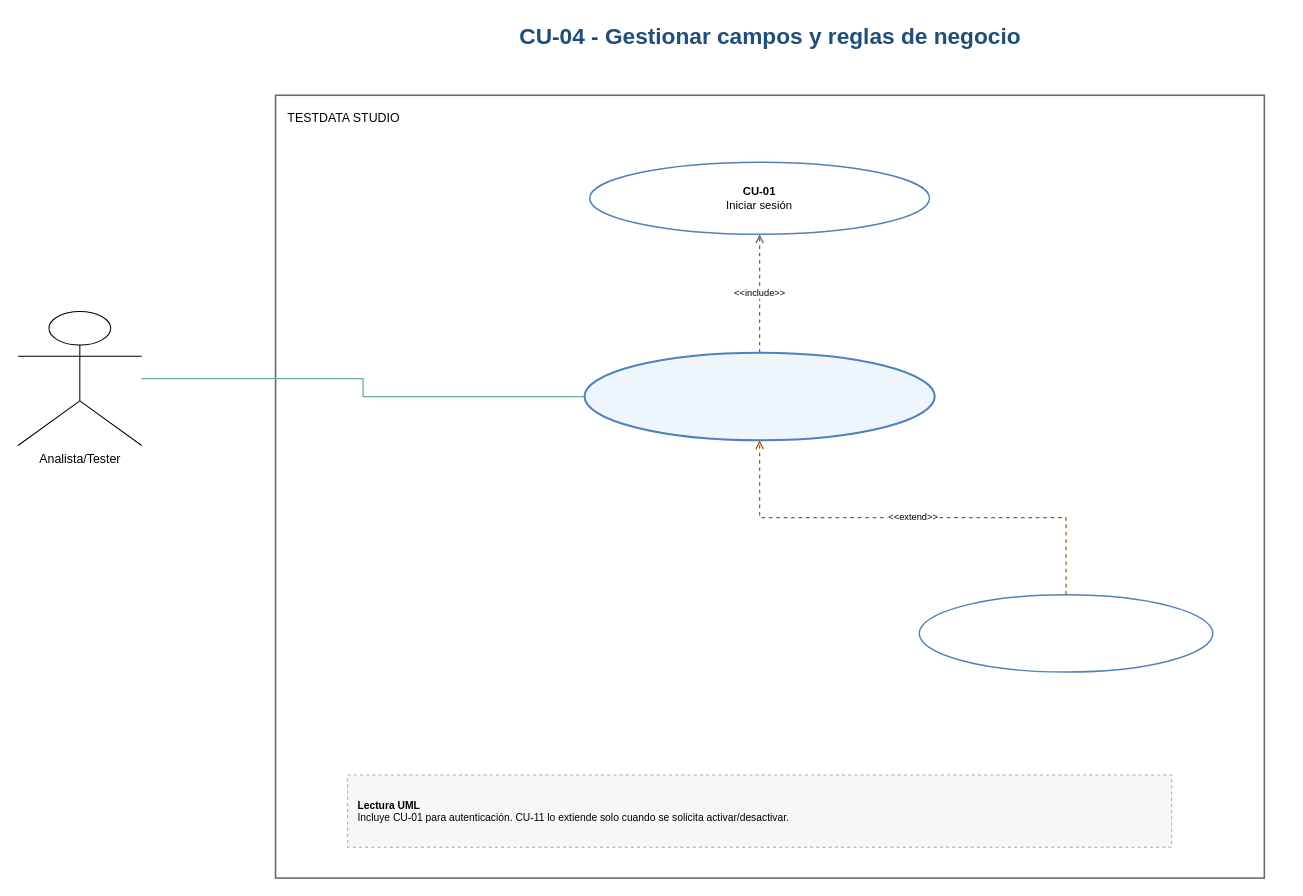
Some shapes in this 1303 by 896 pixel diagram are drawn without their labels. Each missing label, with the box of its shape:
CU-04 Gestionar campos y reglas de negocio: (583, 351, 935, 441)
CU-11 Activar / desactivar registros: (918, 594, 1213, 672)
